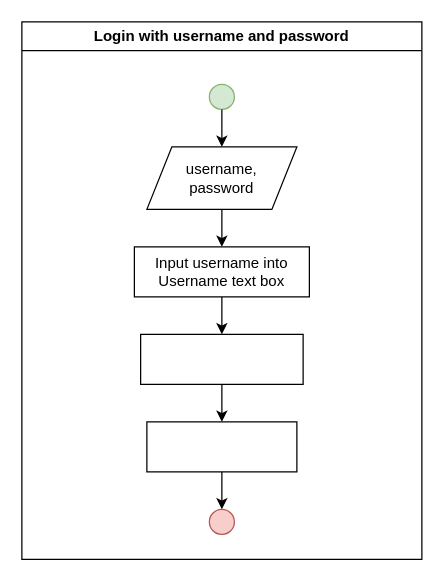
This 444x581 diagram has some shape labels left out. Each missing label, with the box of its shape:
Click Login button: (146, 421, 297, 472)
Input password into Password text box: (139, 333, 303, 384)
